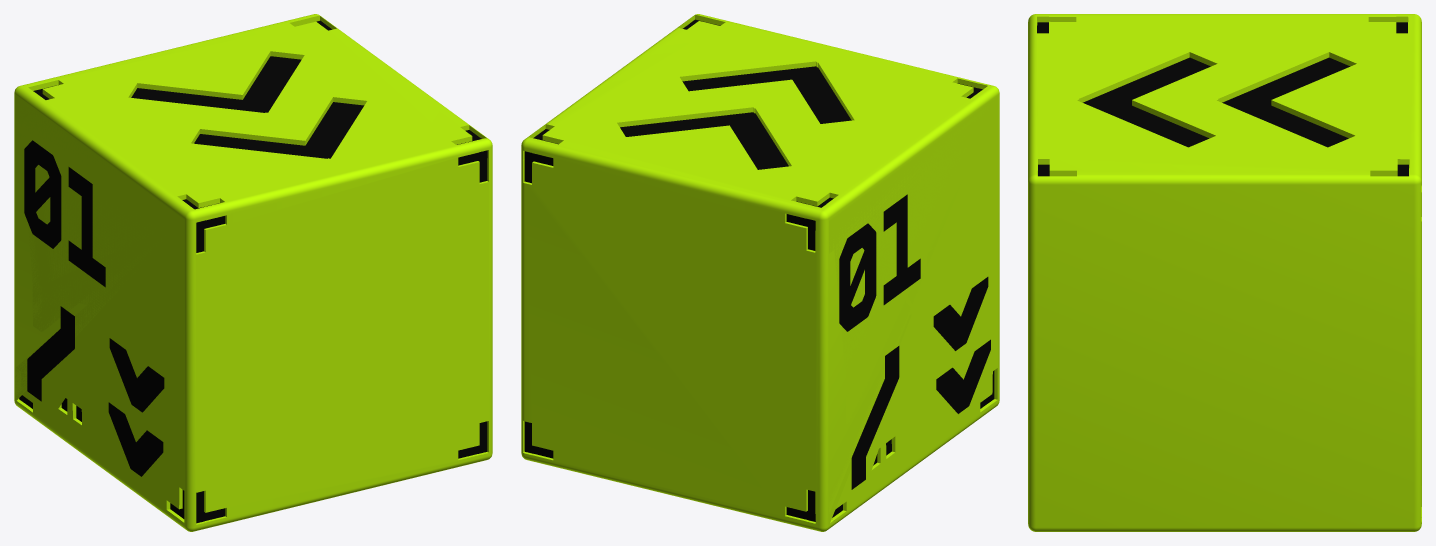
File: cube_down_01.fbx
3 renders of one model, left to right at view 1: azimuth 30°, elevation 25°; view 2: azimuth 150°, elevation 25°; view 3: azimuth 270°, elevation 25°, orthographic. The views are drawn at different scales.
Parts seen in each view (by area): view 1: Cube, Plane, Text, Text.075, Plane.002, Text.074, Text.063; view 2: Cube, Plane, Text, Text.075, Plane.003, Text.074, Text.063; view 3: Cube, Plane.
Boxes of the visible parts, x1=… form: Cube: x1=14, y1=14, x2=492, y2=531; Plane: x1=33, y1=20, x2=481, y2=209; Text: x1=24, y1=140, x2=105, y2=287; Text.075: x1=27, y1=306, x2=74, y2=401; Plane.002: x1=196, y1=150, x2=487, y2=523; Text.074: x1=109, y1=338, x2=164, y2=412; Text.063: x1=108, y1=402, x2=163, y2=476; Cube: x1=521, y1=14, x2=999, y2=531; Plane: x1=533, y1=19, x2=982, y2=207; Text: x1=839, y1=194, x2=920, y2=331; Text.075: x1=851, y1=346, x2=899, y2=489; Plane.003: x1=524, y1=151, x2=815, y2=521; Text.074: x1=933, y1=277, x2=988, y2=350; Text.063: x1=936, y1=339, x2=990, y2=413; Cube: x1=1028, y1=14, x2=1421, y2=531; Plane: x1=1037, y1=22, x2=1408, y2=176.
Size of the model in its own units: 205 by 200 by 200.
